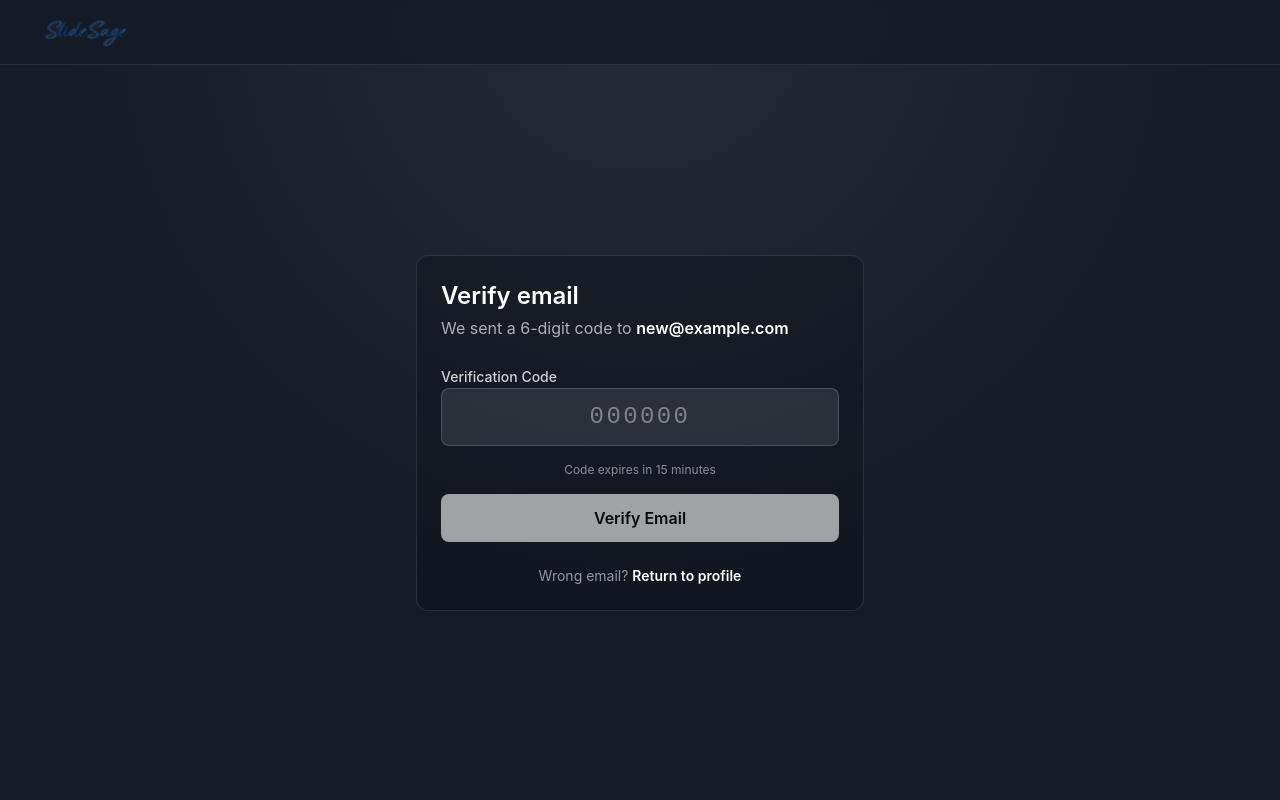
it: VerifyEmailPage › completes an email change through the profile verification endpoint
The width and height of the screenshot is (1280, 800).
Type "123456" into the field labelled "Verification Code" at x=640, y=416, box [441,388,839,446]
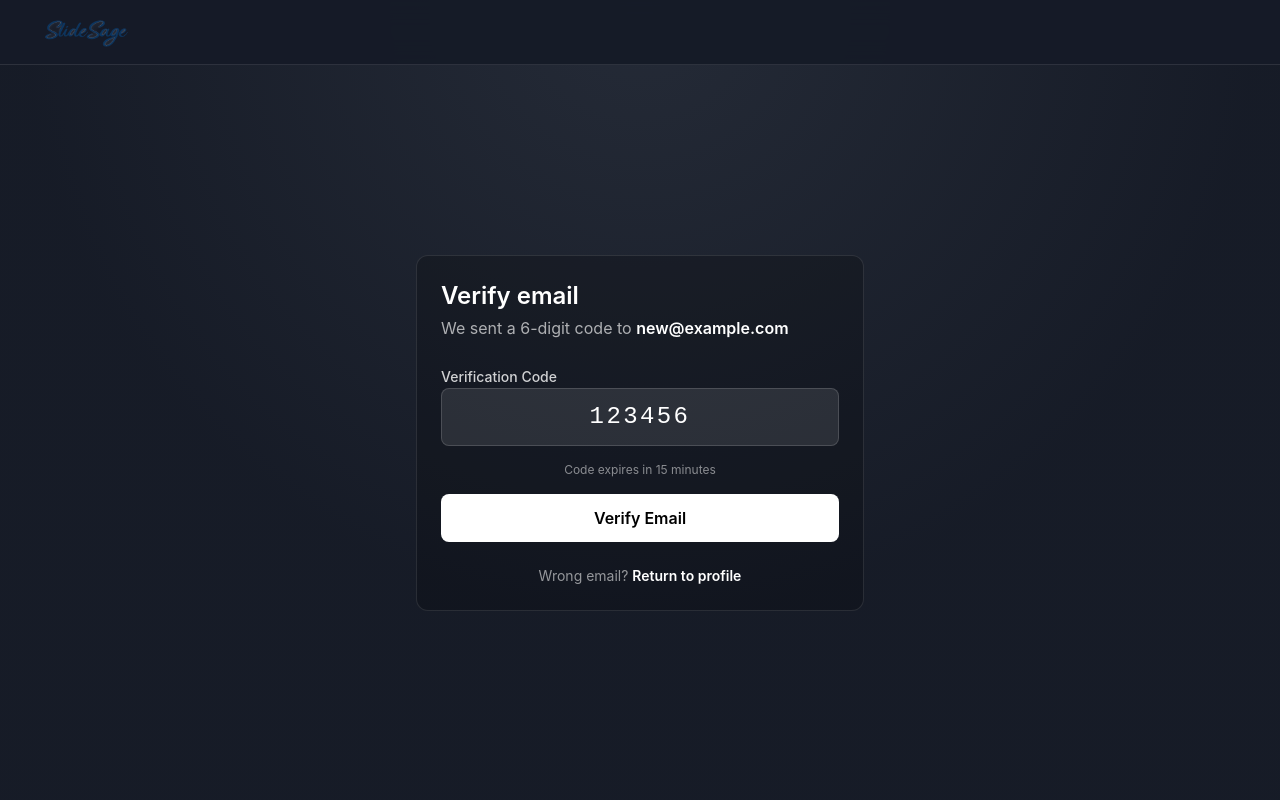
Click the button "Verify Email" at x=640, y=518, box [441,494,839,542]
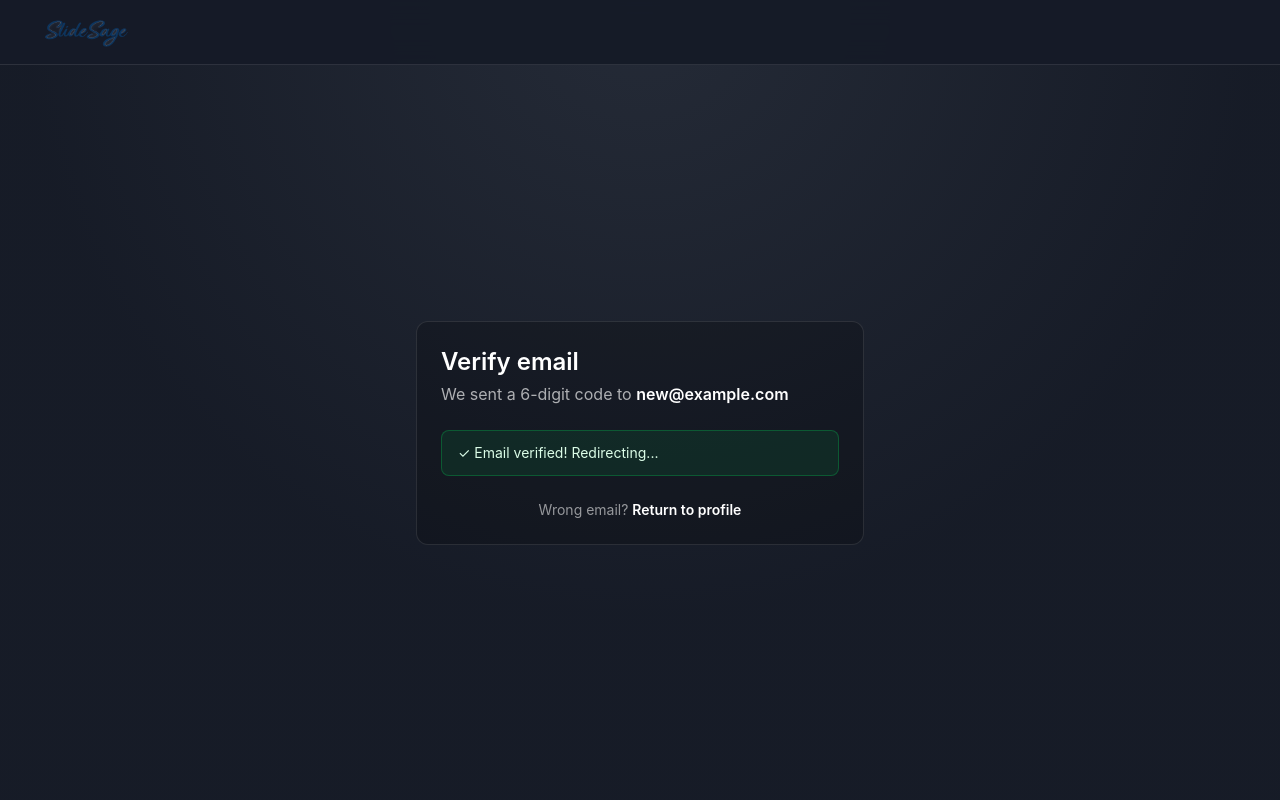
Expected: the label "Resend Code" is gone
